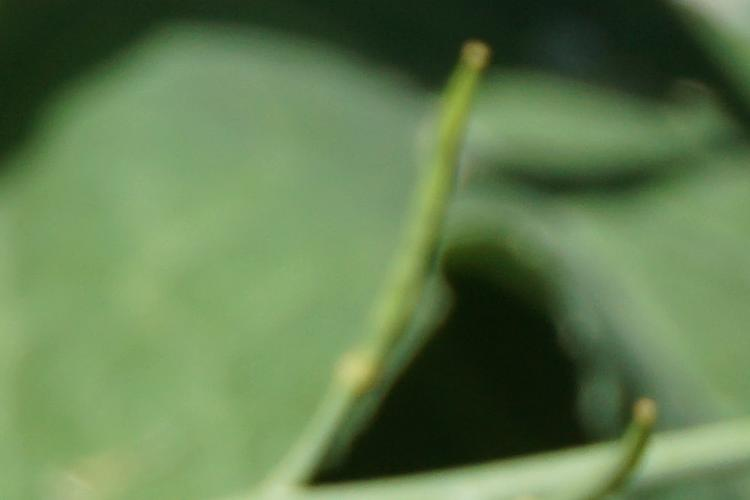pod: (293, 40, 496, 387), (585, 403, 659, 494)
